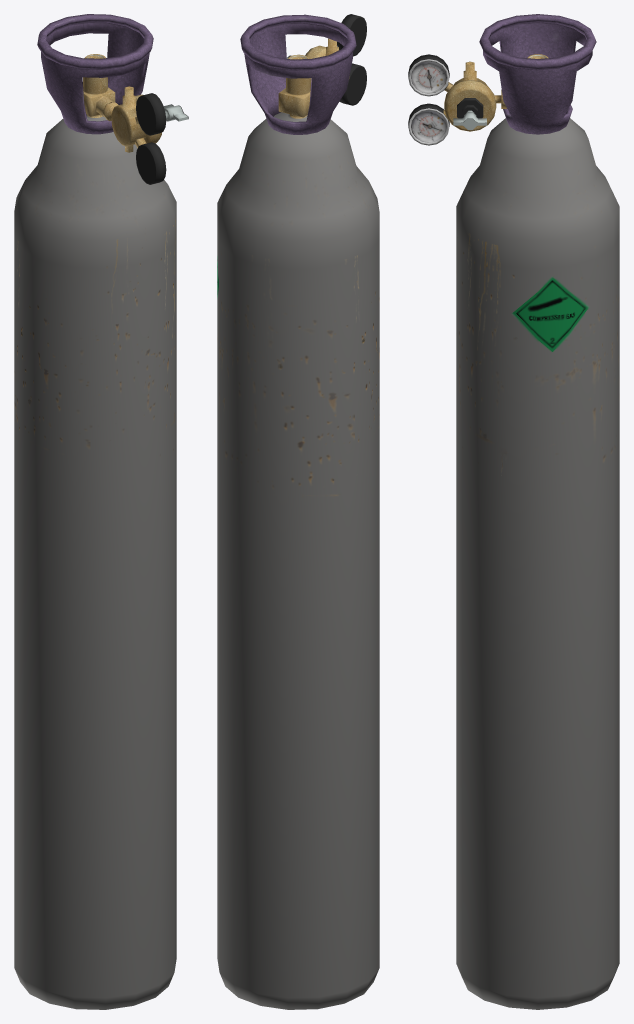
The picture shows the model from 3 angles, left to right: view 1: azimuth 30°, elevation 25°; view 2: azimuth 150°, elevation 25°; view 3: azimuth 270°, elevation 25°; orthographic projection.
Visible parts, largest first — view 1: CO2cylinder_0; view 2: CO2cylinder_0; view 3: CO2cylinder_0.
Boxes of the visible parts, bbox=[...] form: CO2cylinder_0: bbox=[14, 14, 176, 1009]; CO2cylinder_0: bbox=[217, 14, 379, 1009]; CO2cylinder_0: bbox=[408, 14, 619, 1009].
Bounding box in the file's own units: 0.23 × 1.46 × 0.2973.
1 material, 1 textured.
